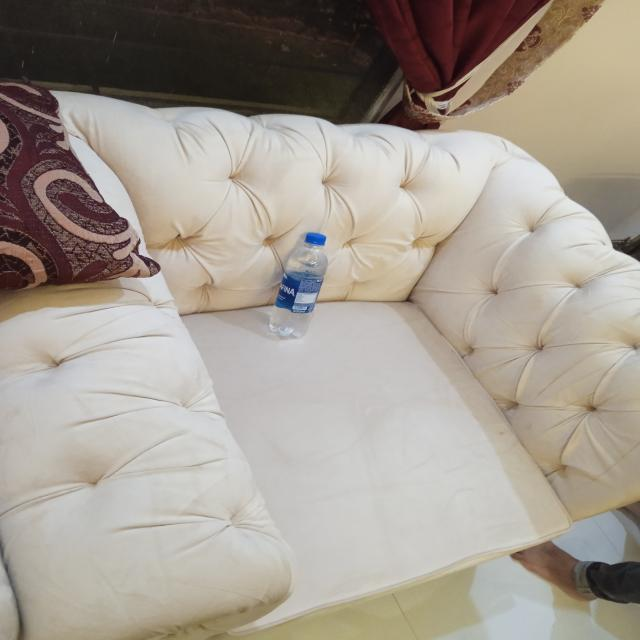Plastic: (273, 228, 333, 338)
